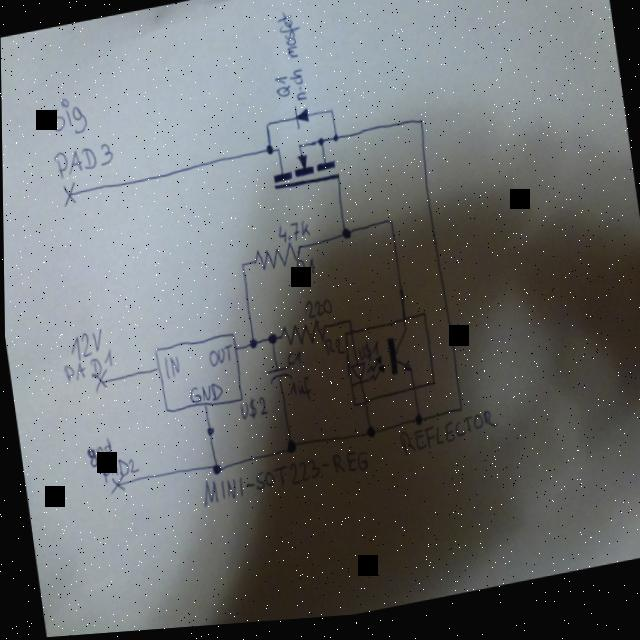capacitor: (262, 365, 291, 387)
diode: (289, 106, 311, 133)
junction: (281, 438, 297, 460), (337, 229, 352, 246), (263, 334, 277, 350), (245, 338, 258, 353), (208, 464, 221, 479), (362, 429, 374, 444), (411, 416, 421, 432), (263, 147, 273, 160), (415, 120, 424, 133), (330, 138, 339, 147), (385, 221, 393, 231), (237, 263, 244, 273), (454, 408, 461, 418), (343, 321, 351, 329), (263, 123, 270, 132), (327, 110, 334, 119)
resistor: (249, 242, 304, 281), (275, 319, 326, 356)
terminal: (88, 368, 109, 395), (59, 179, 76, 208), (106, 475, 125, 496)
text: (195, 450, 369, 512), (394, 412, 499, 466), (274, 9, 309, 110), (51, 140, 114, 179), (60, 347, 114, 385), (45, 98, 87, 142), (66, 328, 103, 364), (97, 454, 137, 485), (274, 221, 311, 249), (186, 382, 222, 408), (236, 396, 268, 425), (83, 437, 111, 469), (300, 299, 331, 324), (285, 379, 311, 407), (354, 340, 379, 369), (205, 345, 231, 370), (271, 74, 291, 104), (160, 355, 180, 382), (292, 259, 314, 283), (320, 339, 342, 361), (283, 352, 301, 373)
transistor: (265, 132, 341, 197)
